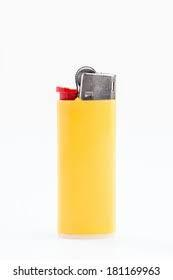lighter: (56, 65, 115, 238)
